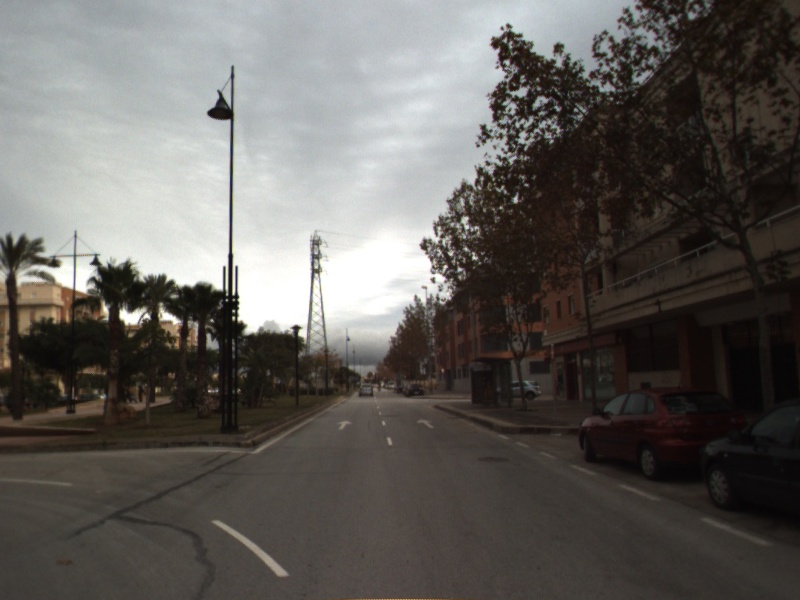STRAIGHT: (414, 416, 437, 430), (335, 418, 355, 432)
